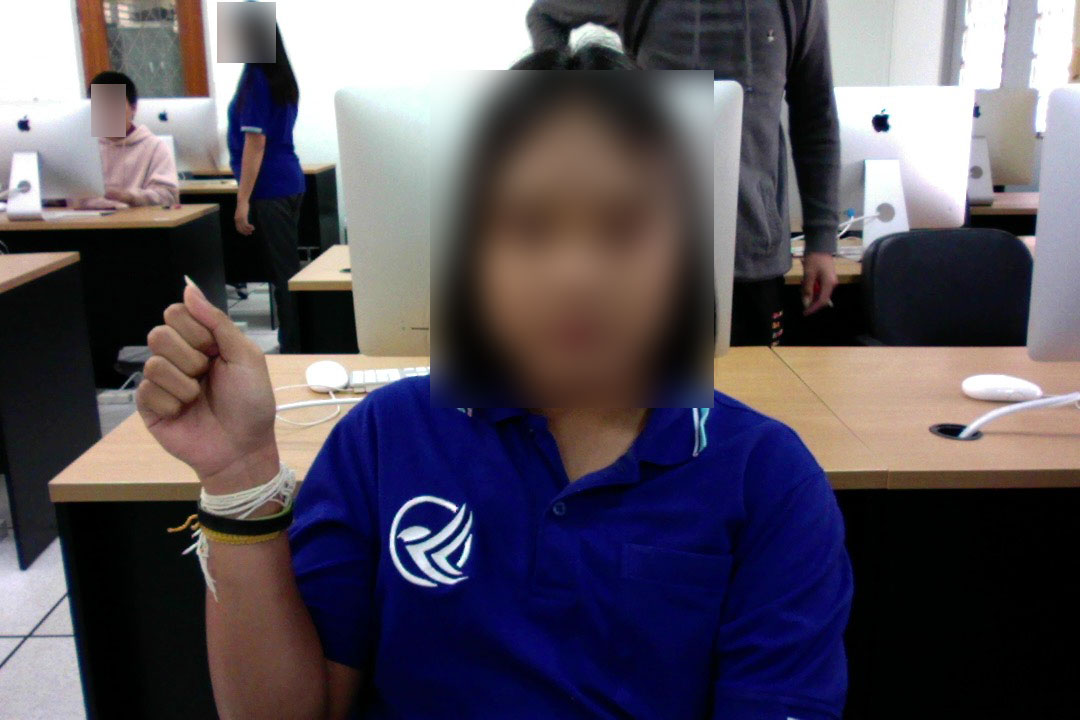or: (122, 268, 290, 500)
